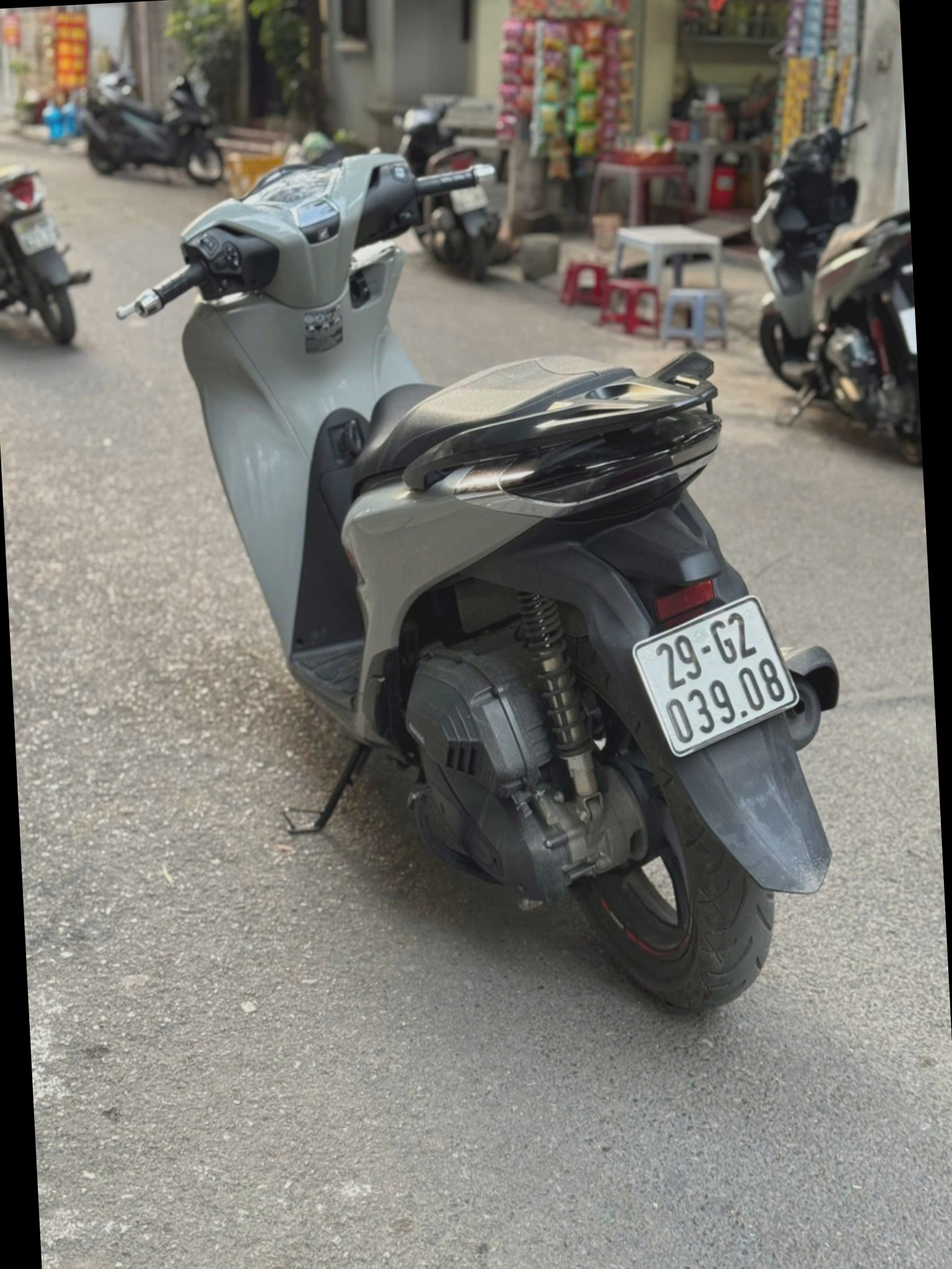Bien-so: (628, 591, 796, 752)
